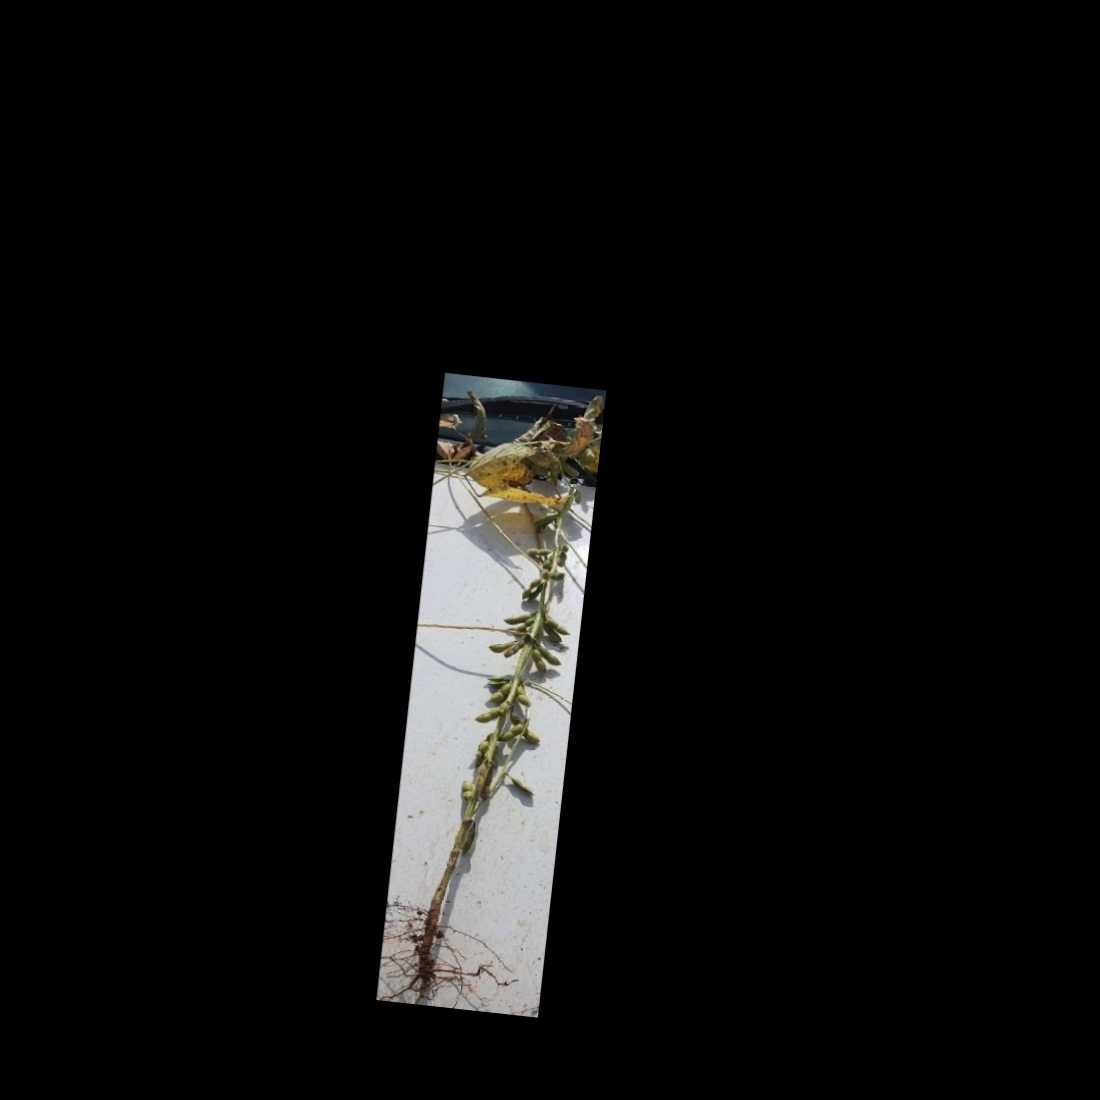pod: (472, 703, 508, 727), (496, 719, 526, 745), (507, 776, 539, 798), (526, 646, 550, 675), (518, 574, 540, 603), (500, 637, 526, 661), (539, 621, 563, 643), (548, 616, 575, 635), (513, 685, 533, 708), (480, 767, 494, 801), (525, 544, 554, 558), (474, 732, 493, 753), (512, 617, 533, 636), (555, 542, 568, 569), (461, 779, 474, 802), (572, 489, 583, 507)
soy: (390, 396, 595, 1000)
